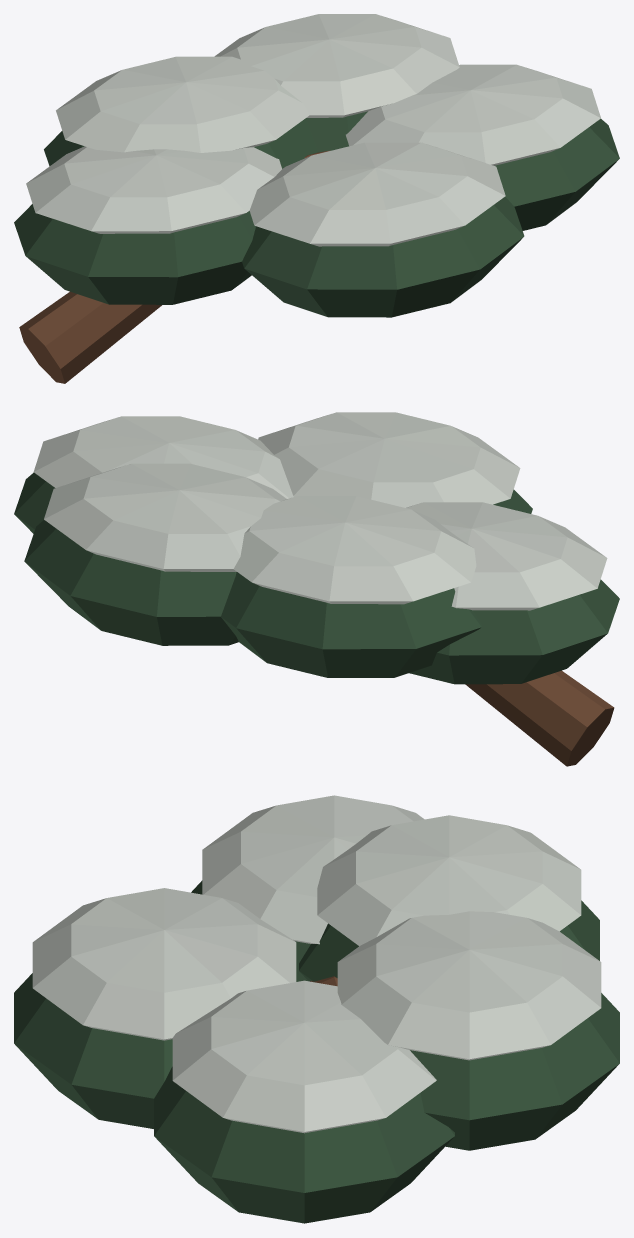
The model's file is Plant_Feature_Snow_BentSnowPine_001.glb.
The picture shows the model from 3 angles, top to bottom: view 1: azimuth 30°, elevation 25°; view 2: azimuth 150°, elevation 25°; view 3: azimuth 270°, elevation 25°; orthographic projection. The views are drawn at different scales.
Parts seen in each view (by area): view 1: Plant_Feature_Snow_BentSnowPine_001; view 2: Plant_Feature_Snow_BentSnowPine_001; view 3: Plant_Feature_Snow_BentSnowPine_001.
Boxes of the visible parts, box(x1,y1,x2,y2) form: Plant_Feature_Snow_BentSnowPine_001: box(14, 14, 619, 383); Plant_Feature_Snow_BentSnowPine_001: box(14, 412, 619, 766); Plant_Feature_Snow_BentSnowPine_001: box(14, 795, 619, 1223).
Size of the model in its own units: 3.4 by 1.27 by 2.49.
